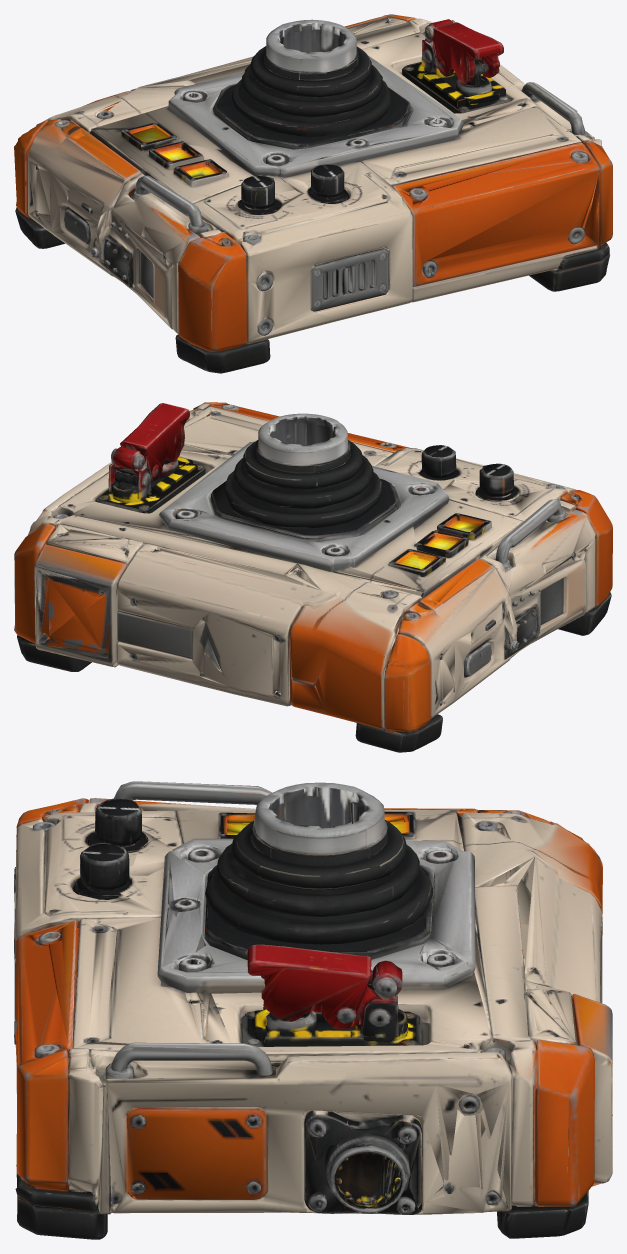
Rendered from JoystickPod_T25.glb.
3 views of the same model, one above another, from view 1: azimuth 30°, elevation 25°; view 2: azimuth 150°, elevation 25°; view 3: azimuth 270°, elevation 25° (orthographic). The views are drawn at different scales.
Size of the model in its own units: 0.9248 by 0.4209 by 0.7622.
1 material, 1 textured.
